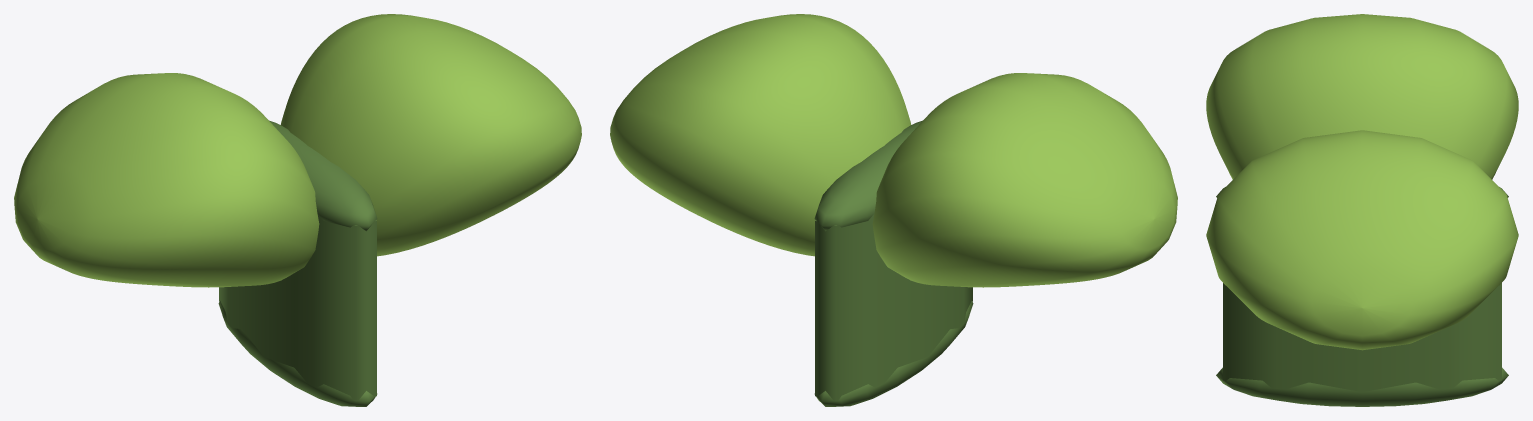
The model's file is crop_7_stage_1.fbx.
3 views of the same model, side by side, from view 1: azimuth 30°, elevation 25°; view 2: azimuth 150°, elevation 25°; view 3: azimuth 270°, elevation 25° (orthographic).
Visible parts, largest first — view 1: crop_7_stage_1; view 2: crop_7_stage_1; view 3: crop_7_stage_1.
Boxes of the visible parts, <box> form: crop_7_stage_1: <box>14,14,581,406</box>; crop_7_stage_1: <box>610,14,1177,406</box>; crop_7_stage_1: <box>1206,14,1518,406</box>.
Bounding box in the file's own units: 0.32 × 0.18 × 0.16.
1 material, 1 textured.
